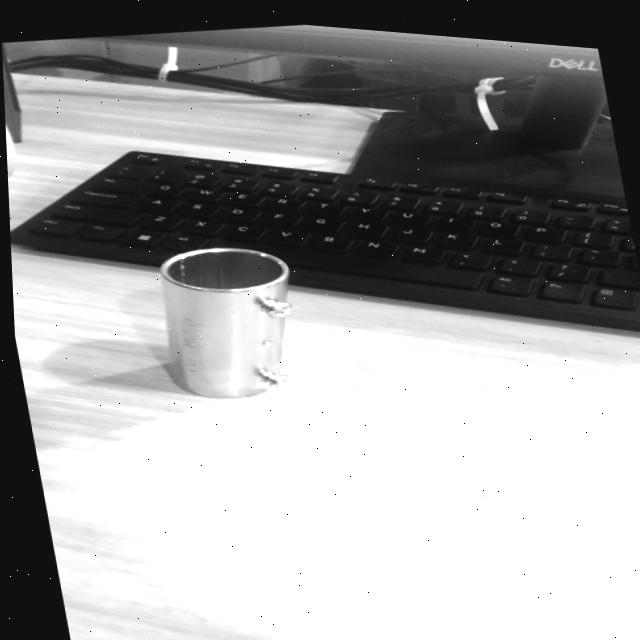Co_Lon: (157, 241, 298, 403)
